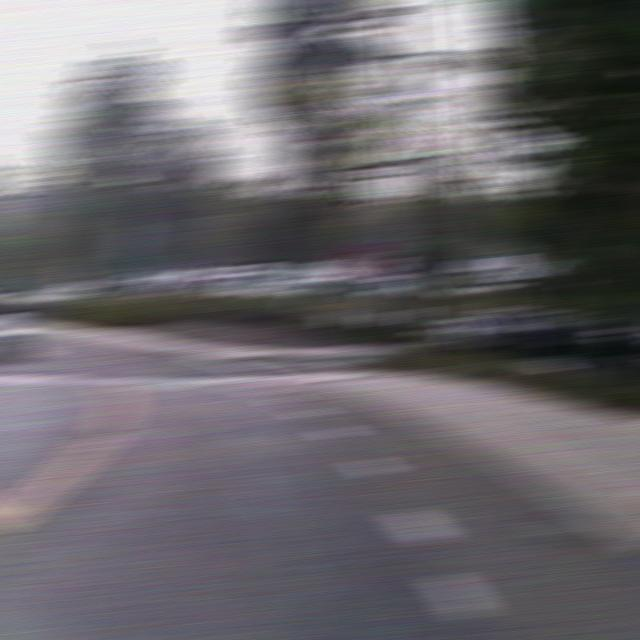stop_sign: (340, 241, 385, 278)
